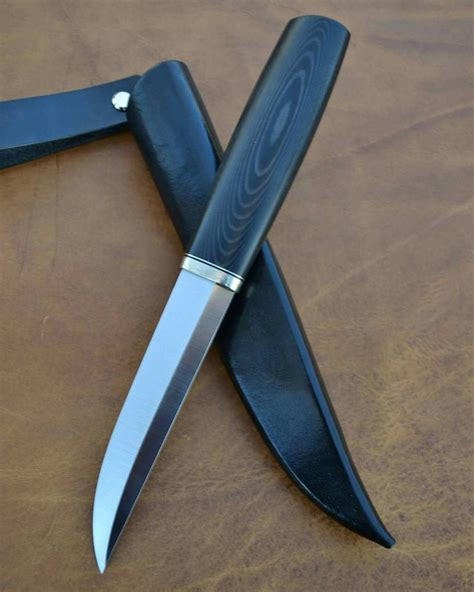knife: (91, 13, 354, 576)
